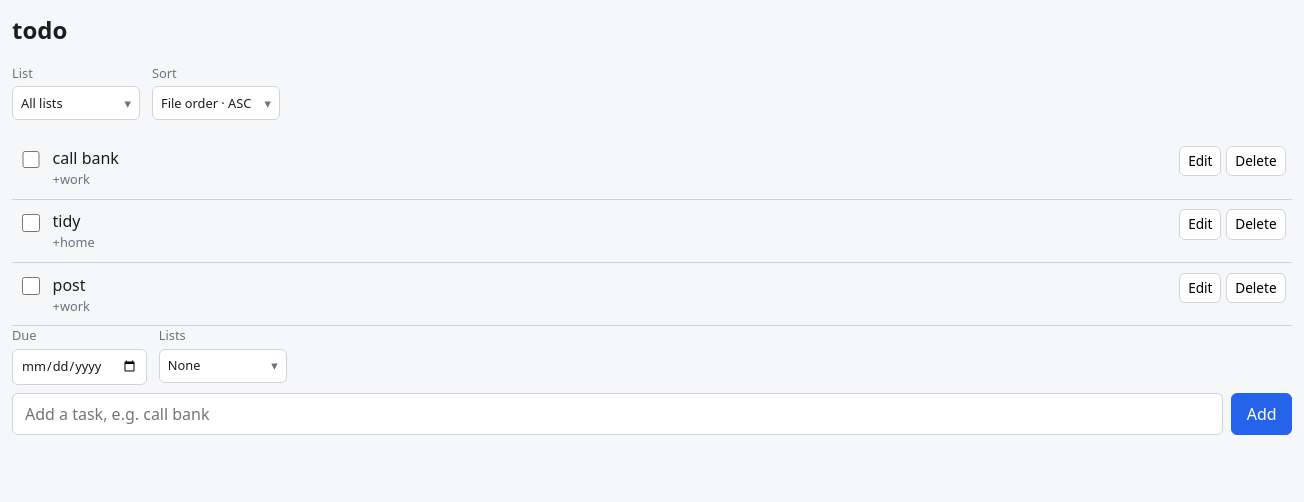
Test: TodoPane simplified workflow (compact=false) › adds and reloads a task
expect the text "call bank" is shown: met, box [53,147,119,169]
Type "new task" into the field named "new task" at (618, 414), box [12,393,1223,435]
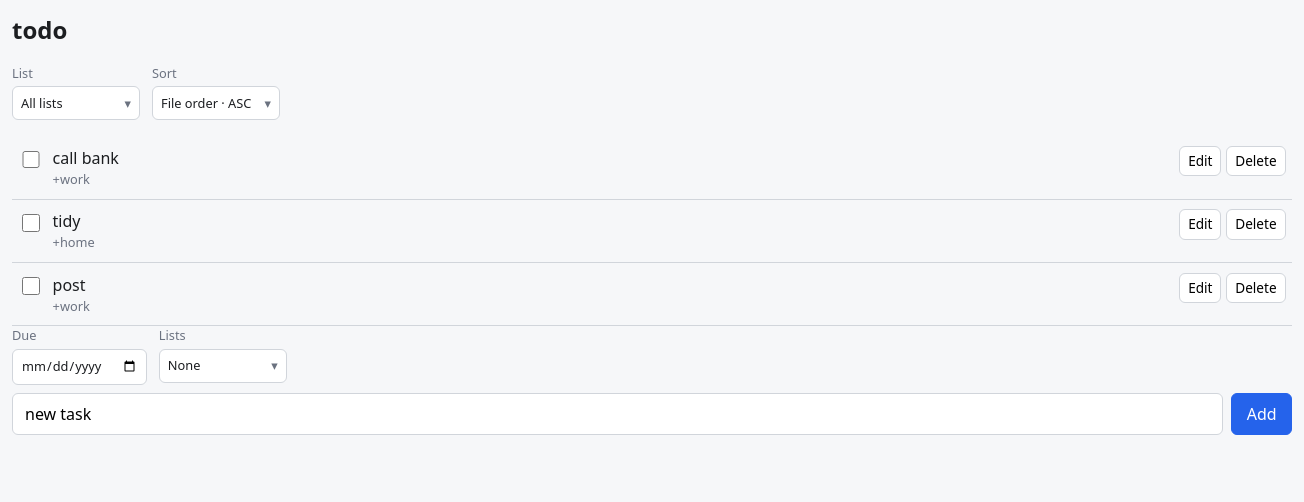
Submit the form with id "add-form", box [12,326,1292,435]
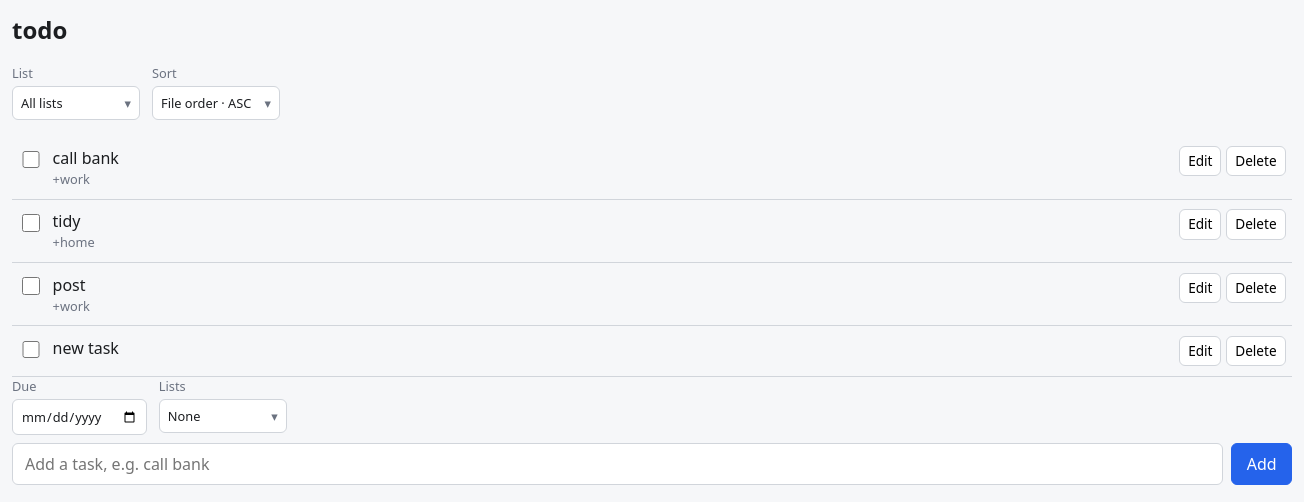
expect the text "new task" is shown: met, box [53,337,119,359]
